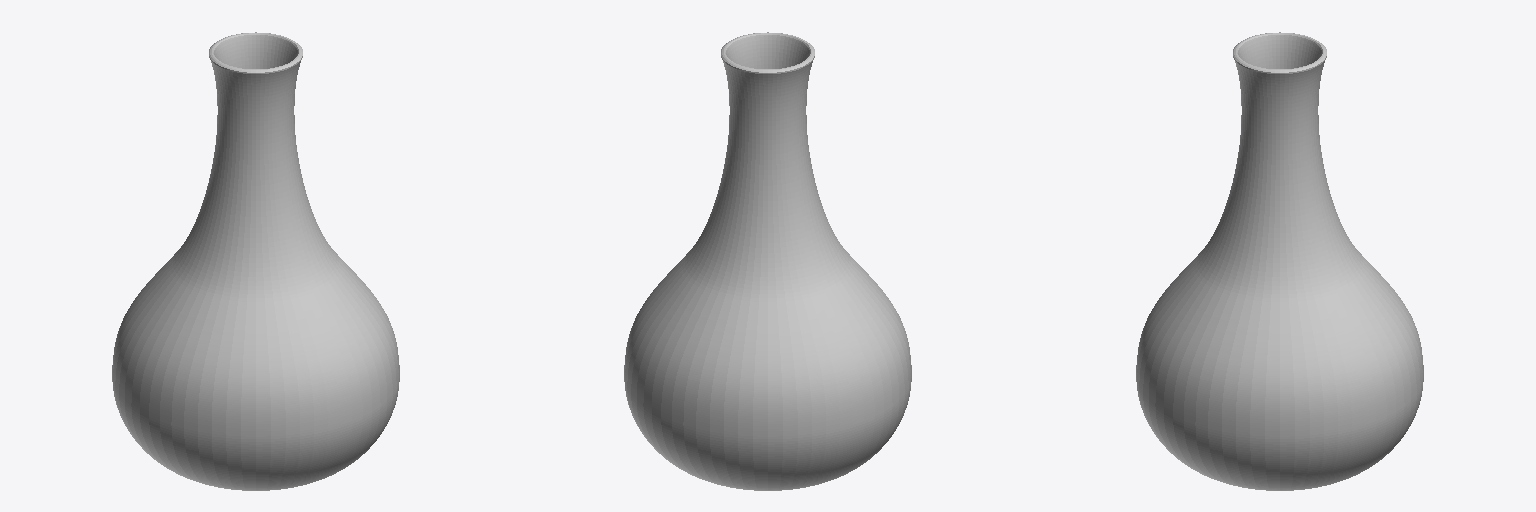
File: Vase_1.obj
3 views of the same model, side by side, from view 1: azimuth 30°, elevation 25°; view 2: azimuth 150°, elevation 25°; view 3: azimuth 270°, elevation 25° (orthographic).
Visible parts, largest first — view 1: Line003; view 2: Line003; view 3: Line003.
Boxes of the visible parts, box(x1,y1,x2,y2) form: Line003: box(112, 32, 399, 490); Line003: box(624, 32, 911, 490); Line003: box(1136, 32, 1423, 490).
Size of the model in its own units: 19.44 by 30.53 by 19.44.